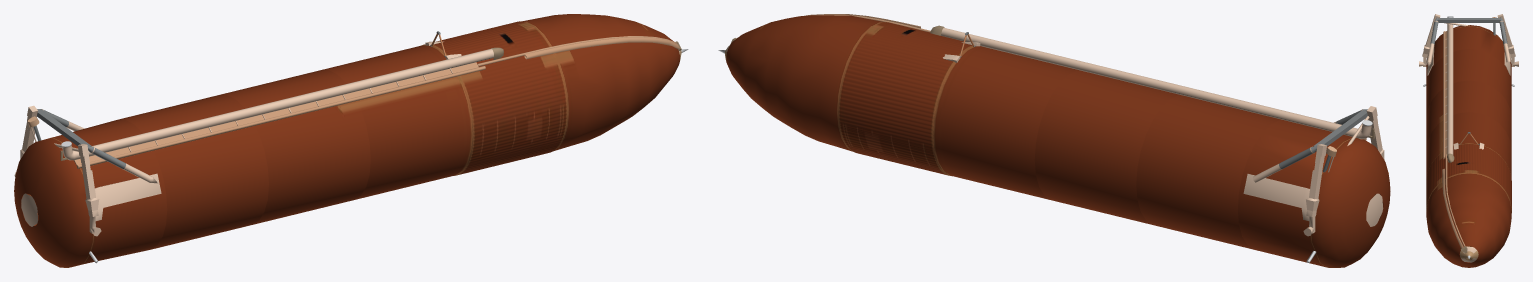
Rendered from external-tank-web.glb.
The picture shows the model from 3 angles, left to right: view 1: azimuth 30°, elevation 25°; view 2: azimuth 150°, elevation 25°; view 3: azimuth 270°, elevation 25°; orthographic projection. The views are drawn at different scales.
Visible parts, largest first — view 1: et_all.lay; view 2: et_all.lay; view 3: et_all.lay.
Part boxes in pixels (x1=…): et_all.lay: x1=14, y1=14, x2=688, y2=267; et_all.lay: x1=718, y1=14, x2=1390, y2=267; et_all.lay: x1=1419, y1=14, x2=1518, y2=267.
Bounding box in the file's own units: 1880 × 380 × 388.
2 materials, 2 textured.
